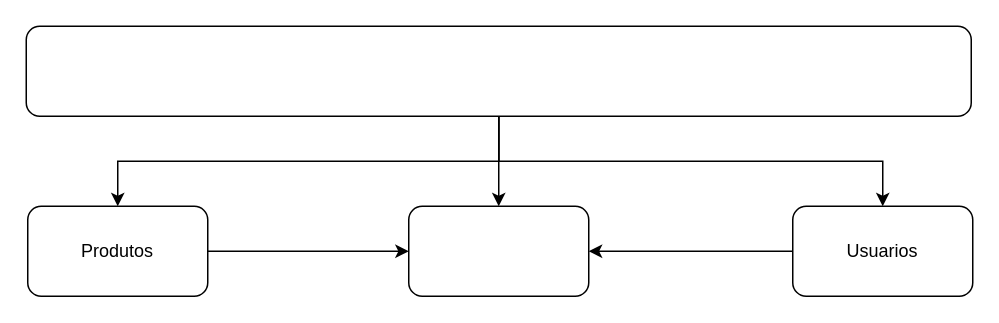
Image size: 999x323. Some labels were removed from this diagram. Each missing label, with the centre of its shape:
Gateway: (x=498, y=70)
Vendas: (x=498, y=250)
